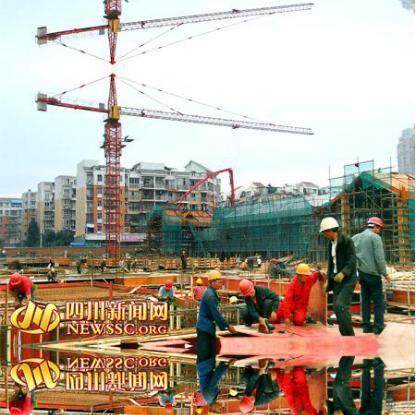Hardhat: (318, 216, 342, 235), (8, 271, 23, 291), (238, 279, 254, 297), (368, 217, 386, 232), (206, 271, 225, 282), (296, 263, 313, 275), (166, 278, 174, 289), (194, 278, 203, 285)
